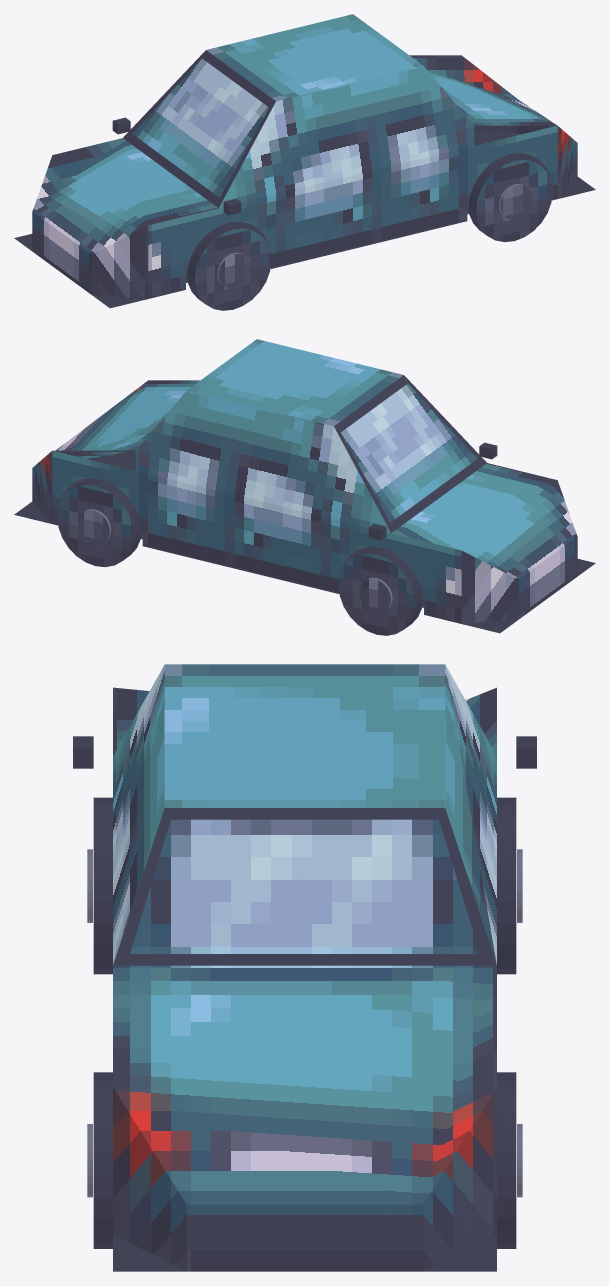
The model's file is unindexed-sedan-cyan-v1.glb.
3 views of the same model, one above another, from view 1: azimuth 30°, elevation 25°; view 2: azimuth 150°, elevation 25°; view 3: azimuth 270°, elevation 25° (orthographic). The views are drawn at different scales.
Visible parts, largest first — view 1: Passenger-body-east, Cabin-windows-east, Hood, Roof, Windshield-glass, Tire_FL, Tire_RL, Trunk, Front-corner--1, Windshield-frame, Front-fascia, Underfloor (+5 smaller); view 2: Passenger-body-west, Cabin-windows-west, Hood, Roof, Windshield-glass, Trunk, Tire_FR, Tire_RR, Front-corner-1, Windshield-frame, Front-fascia, Underfloor (+5 smaller); view 3: Trunk, Rear-window-glass, Roof, Rear-fascia, Rear-window-frame, Cabin-windows-east, Cabin-windows-west, Rear-corner-1, Rear-corner--1, Tire_FL, Tire_FR, Tire_RL (+3 smaller).
Part boxes in pixels (x1,y1,x2,y2): Passenger-body-east: (148, 125, 557, 298); Cabin-windows-east: (219, 65, 474, 207); Hood: (32, 138, 218, 254); Roof: (206, 14, 422, 101); Windshield-glass: (132, 58, 268, 197); Tire_FL: (187, 222, 271, 310); Tire_RL: (468, 154, 552, 242); Trunk: (410, 55, 557, 125); Front-corner--1: (91, 226, 148, 298); Windshield-frame: (123, 50, 275, 207); Front-fascia: (32, 211, 91, 294); Underfloor: (14, 130, 595, 308); Passenger-body-west: (52, 450, 461, 623); Cabin-windows-west: (135, 390, 390, 532); Hood: (391, 463, 577, 579); Roof: (187, 339, 403, 426); Windshield-glass: (341, 383, 477, 522); Trunk: (53, 380, 199, 458); Tire_FR: (338, 547, 422, 635); Tire_RR: (57, 479, 141, 567); Front-corner-1: (461, 551, 518, 623); Windshield-frame: (334, 375, 486, 532); Front-fascia: (518, 536, 577, 619); Underfloor: (14, 455, 595, 633); Trunk: (113, 965, 496, 1204); Rear-window-glass: (130, 819, 479, 953); Roof: (164, 664, 445, 807); Rear-fascia: (187, 1204, 422, 1271); Rear-window-frame: (113, 808, 496, 965); Cabin-windows-east: (113, 665, 164, 964); Cabin-windows-west: (445, 665, 496, 964); Rear-corner-1: (423, 1087, 496, 1271); Rear-corner--1: (113, 1087, 186, 1271); Tire_FL: (93, 797, 112, 974); Tire_FR: (497, 797, 516, 974); Tire_RL: (93, 1072, 112, 1248).
Size of the model in its own units: 76 by 27 by 31.4.
Materials: 1 (1 with a texture image).
